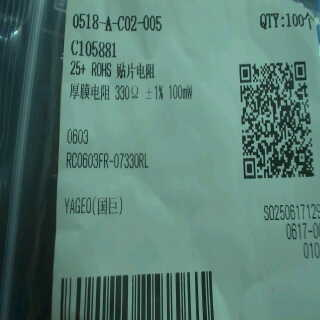330R: (112, 83, 144, 105)
